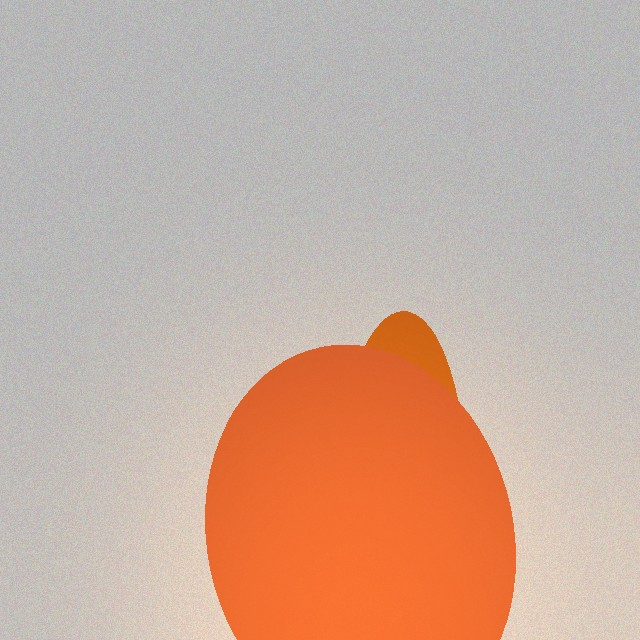fire: (206, 512, 508, 626)
